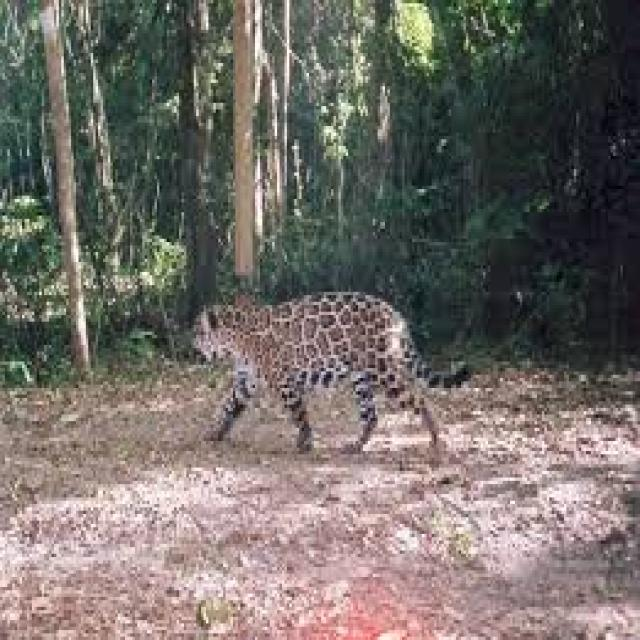Jaguar: (189, 288, 478, 454)
